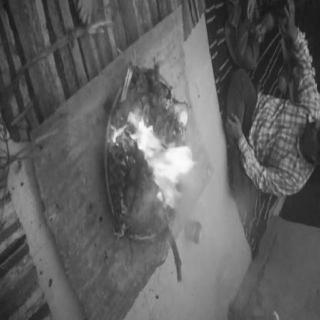Fire: (111, 110, 197, 214)
other: (161, 93, 191, 141), (138, 88, 150, 109)
